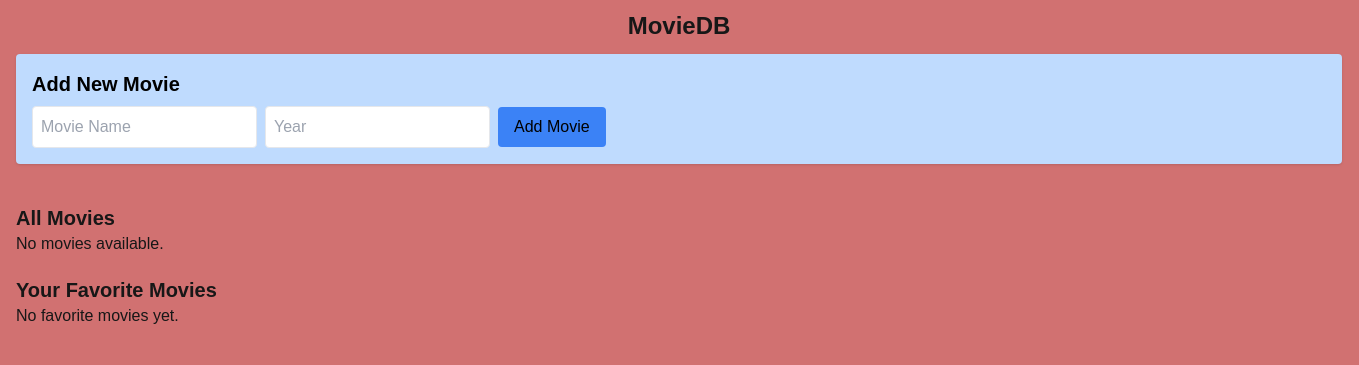
Test: <MovieManager /> - Add Movie › adds a movie and displays it
# Add new movie details
Type "Dunkirk" into the field with placeholder "Movie Name" at (145, 127), box [32, 106, 257, 148]
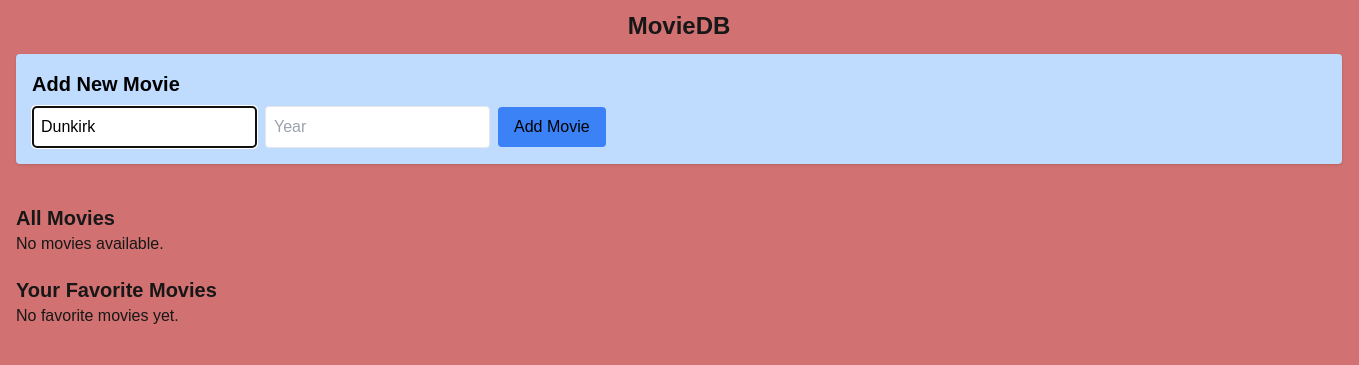
Type "2017" into the number field with placeholder "Year" at (378, 127), box [265, 106, 490, 148]
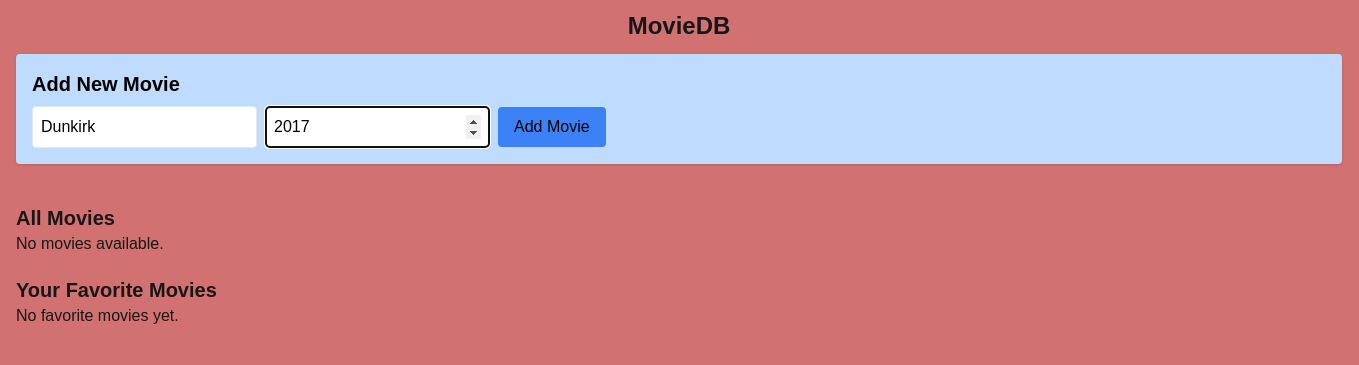
Click the button "Add Movie" at (552, 127), box [498, 107, 606, 147]
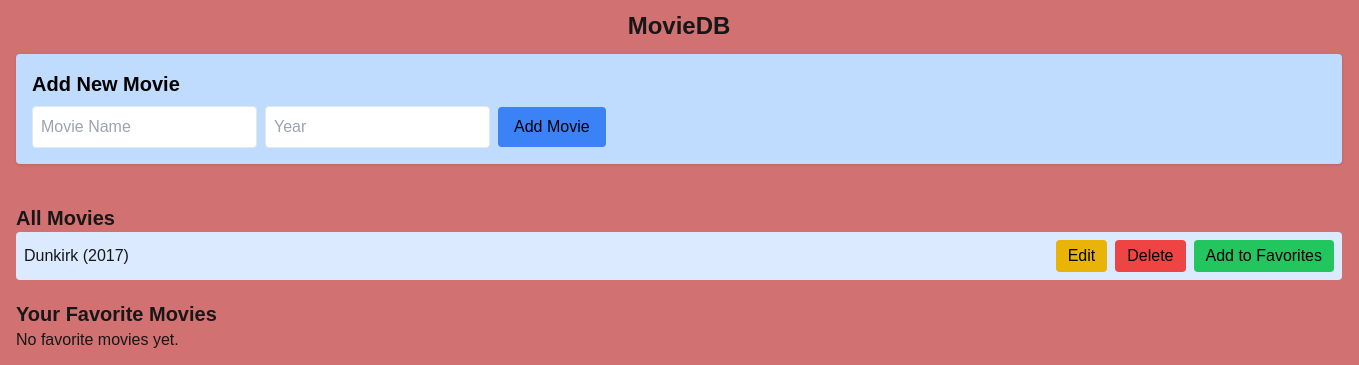
Result: the text "Dunkirk (2017)" is shown at [24, 244, 129, 268]
